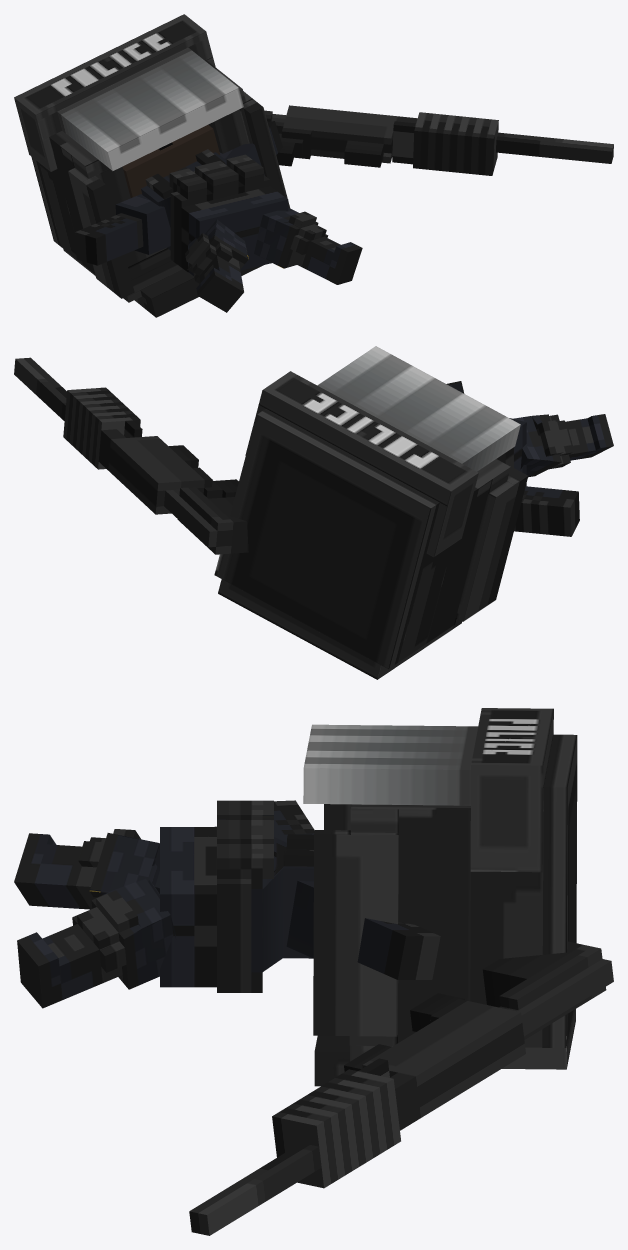
The model's file is Police_die3.fbx.
The picture shows the model from 3 angles, top to bottom: view 1: azimuth 30°, elevation 25°; view 2: azimuth 150°, elevation 25°; view 3: azimuth 270°, elevation 25°; orthographic projection. The views are drawn at different scales.
Parts seen in each view (by area): view 1: Police_die3; view 2: Police_die3; view 3: Police_die3.
Boxes of the visible parts, box(x1,y1,x2,y2) form: Police_die3: box(14, 14, 613, 317); Police_die3: box(14, 346, 613, 679); Police_die3: box(14, 708, 613, 1235).
Size of the model in its own units: 80.81 by 34.45 by 52.52.
